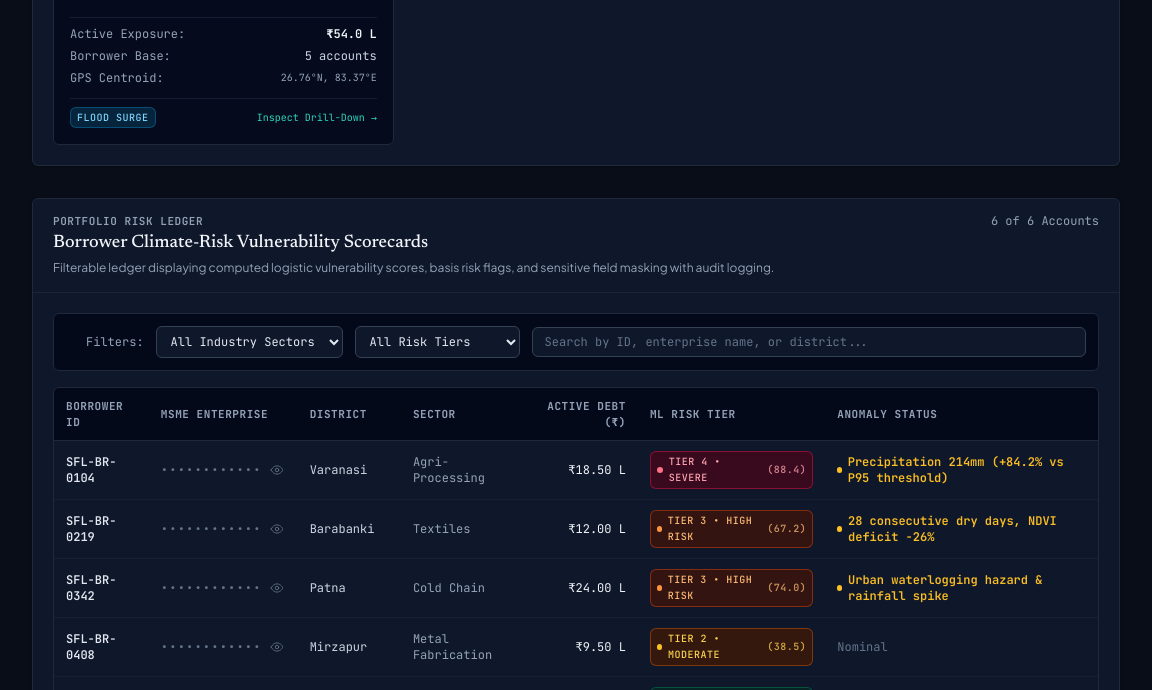
Test: PortfolioDashboard View › filters borrower roster when sector filter is changed
The image size is (1152, 690).
(page scrolled)
Expected: the text "SFL-BR-0104" is shown, [54,440,149,499]
Change sector filter to 'Textiles'
Select "Textiles" in the 1st dropdown at (249, 342), box [156,326,343,358]
(page scrolled)
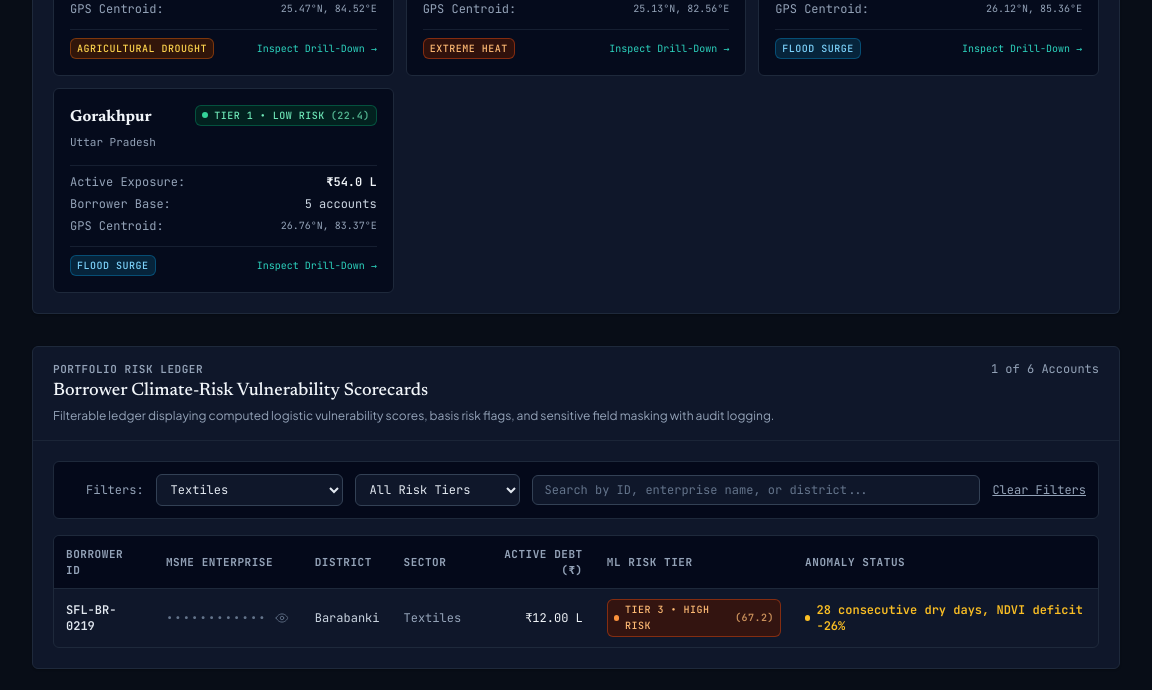
Expected: the text "SFL-BR-0219" is shown, [54,588,154,646]
Result: the text "SFL-BR-0104" is gone
